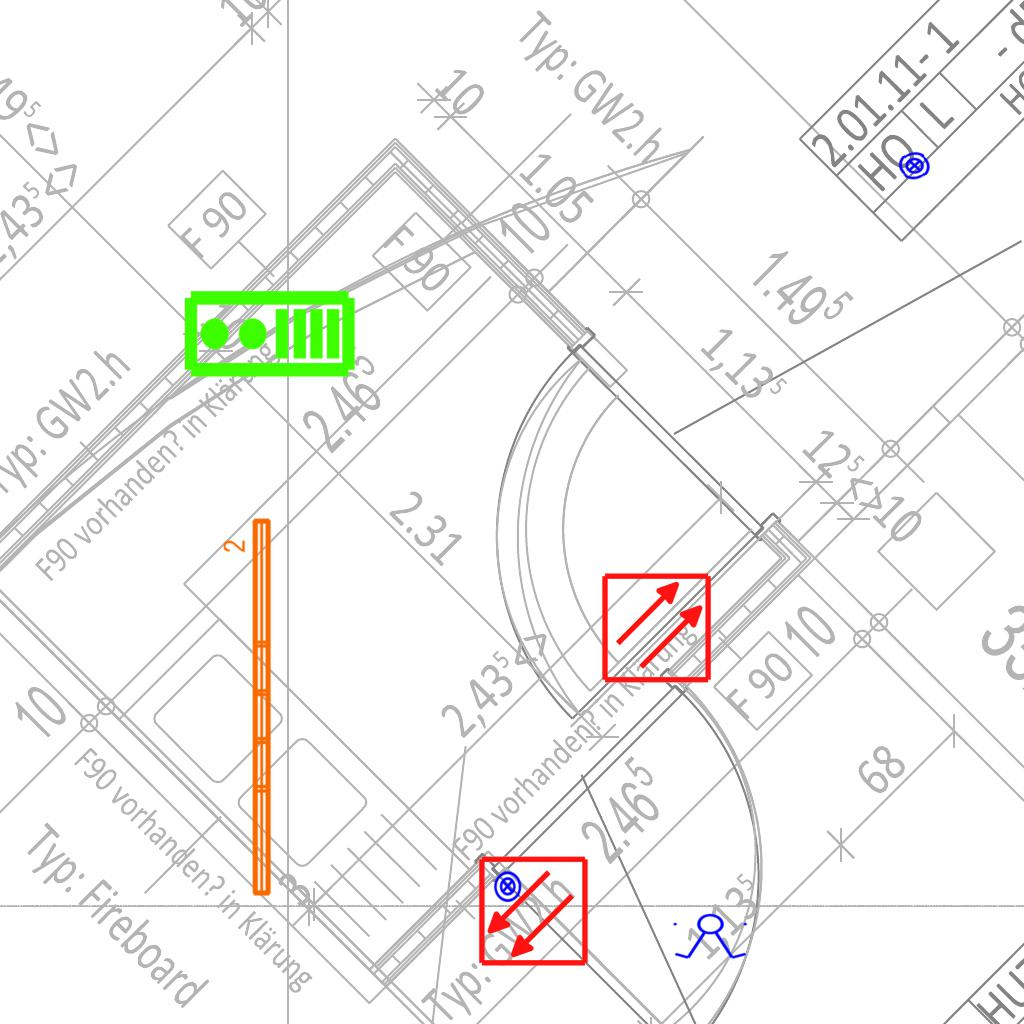Ambulanz_Pendelleuchte_LED: (221, 514, 277, 901)
Gegensprechanlage_mit_Video: (181, 288, 357, 383)
RMO_Rauchmelder_optischer: (477, 855, 590, 968), (600, 571, 713, 684)
Serienschalter: (669, 913, 753, 961)
Taster_beleuchtet: (897, 148, 932, 183), (491, 870, 524, 903)
